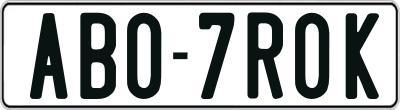0: (125, 13, 159, 103), (292, 11, 326, 97)
7: (197, 11, 236, 103)
A: (27, 10, 68, 102)
B: (78, 13, 118, 100)
K: (344, 12, 378, 103)
R: (245, 13, 284, 102)
